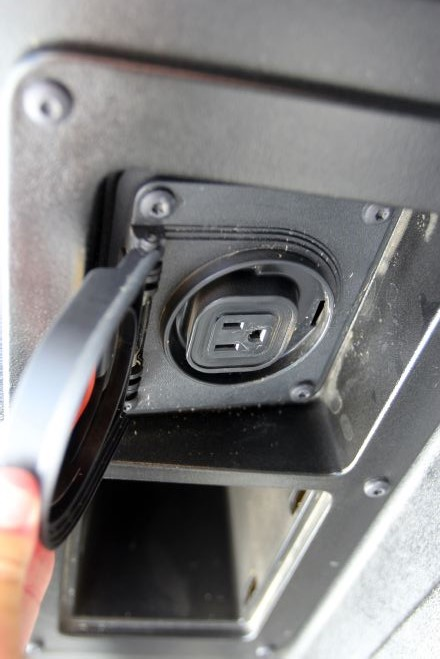outlet: (210, 316, 269, 354)
